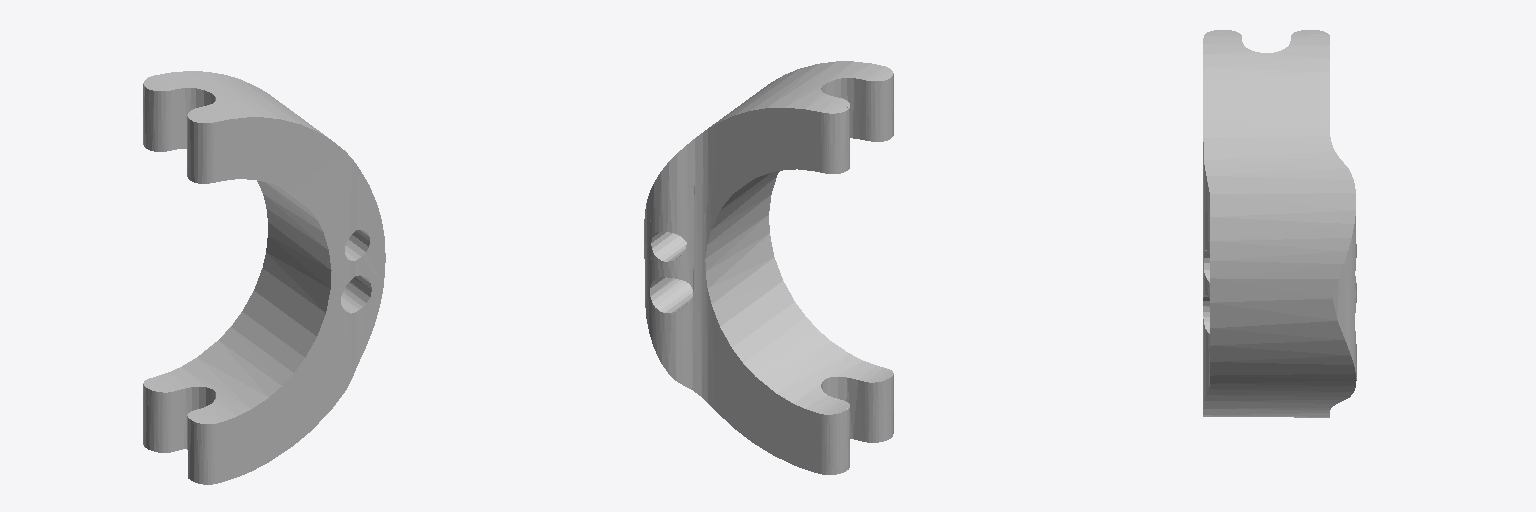
The model's file is seg2.OBJ.
3 views of the same model, side by side, from view 1: azimuth 30°, elevation 25°; view 2: azimuth 150°, elevation 25°; view 3: azimuth 270°, elevation 25° (orthographic).
Visible parts, largest first — view 1: /ambf/env/seg2_seg2; view 2: /ambf/env/seg2_seg2; view 3: /ambf/env/seg2_seg2.
Part boxes in pixels (bbox=[...]): /ambf/env/seg2_seg2: bbox=[143, 71, 385, 484]; /ambf/env/seg2_seg2: bbox=[644, 61, 893, 474]; /ambf/env/seg2_seg2: bbox=[1203, 30, 1356, 417].
Size of the model in its own units: 0.0033 by 0.006 by 0.0023.